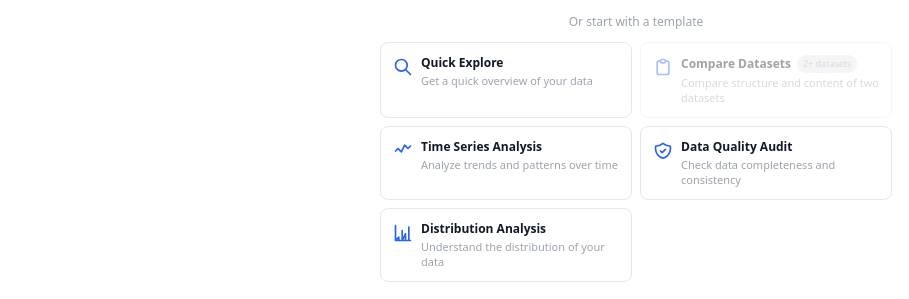
ConversationTemplates — clicking a template shows prompts › shows suggested prompts when a template card is clicked
// Click the Quick Explore template
Click the button with test id "conversation-template-quick-explore": (506, 80) [380, 42, 632, 118]
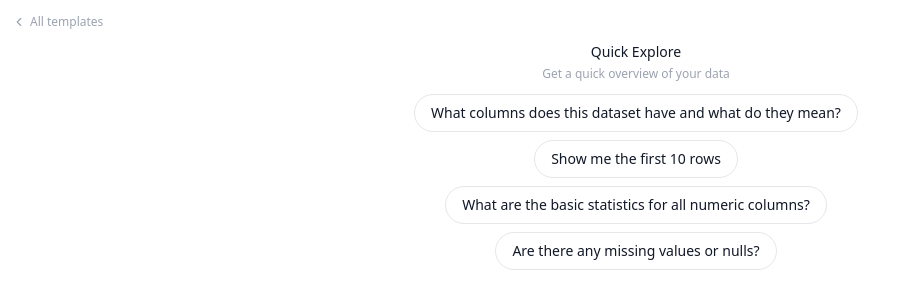
Now the number of buttons with test id "template-prompt-chip" is 4, box [414, 94, 858, 132]; [534, 140, 738, 178]; [445, 186, 827, 224]; [495, 232, 777, 270]
Now the button with test id "template-prompt-chip" reads "What columns does this dataset have and what do they mean?", box [414, 94, 858, 132]
